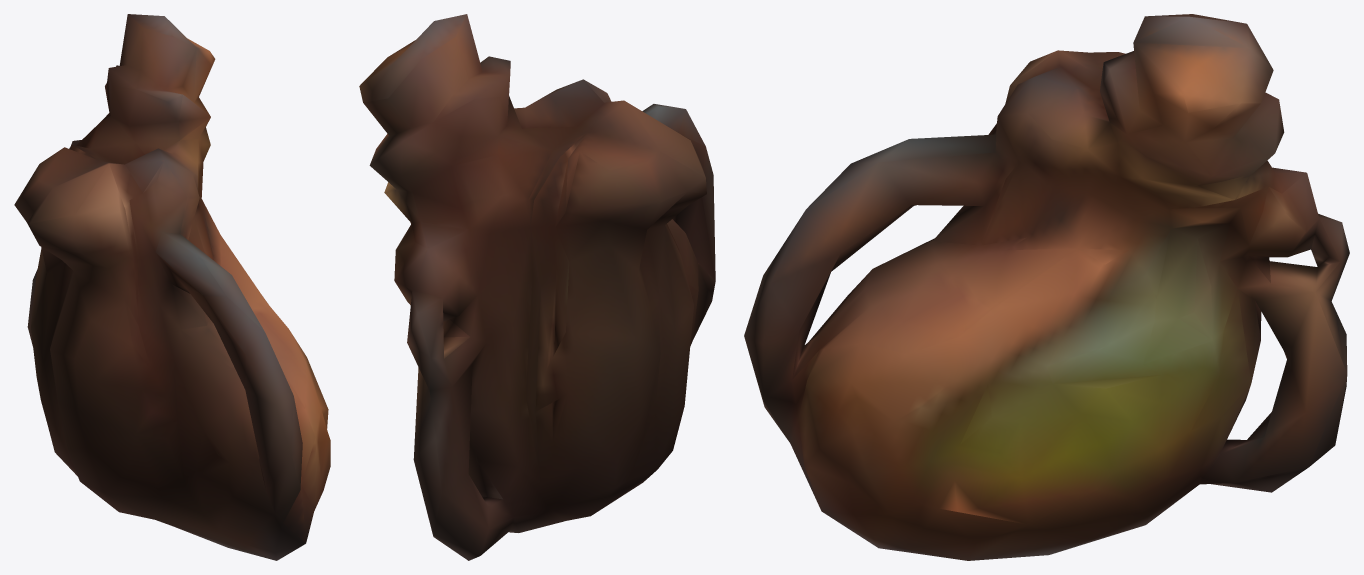
Rendered from waterskin_dirty.glb.
3 renders of one model, left to right at view 1: azimuth 30°, elevation 25°; view 2: azimuth 150°, elevation 25°; view 3: azimuth 270°, elevation 25°, orthographic. The views are drawn at different scales.
Visible parts, largest first — view 1: model; view 2: model; view 3: model.
Part boxes in pixels (x1,y1,x2,y2): model: (14,14,330,560); model: (359,14,715,560); model: (744,14,1349,560).
Bounding box in the file's own units: 0.2149 × 0.3988 × 0.3964.
Materials: 1 (1 with a texture image).
